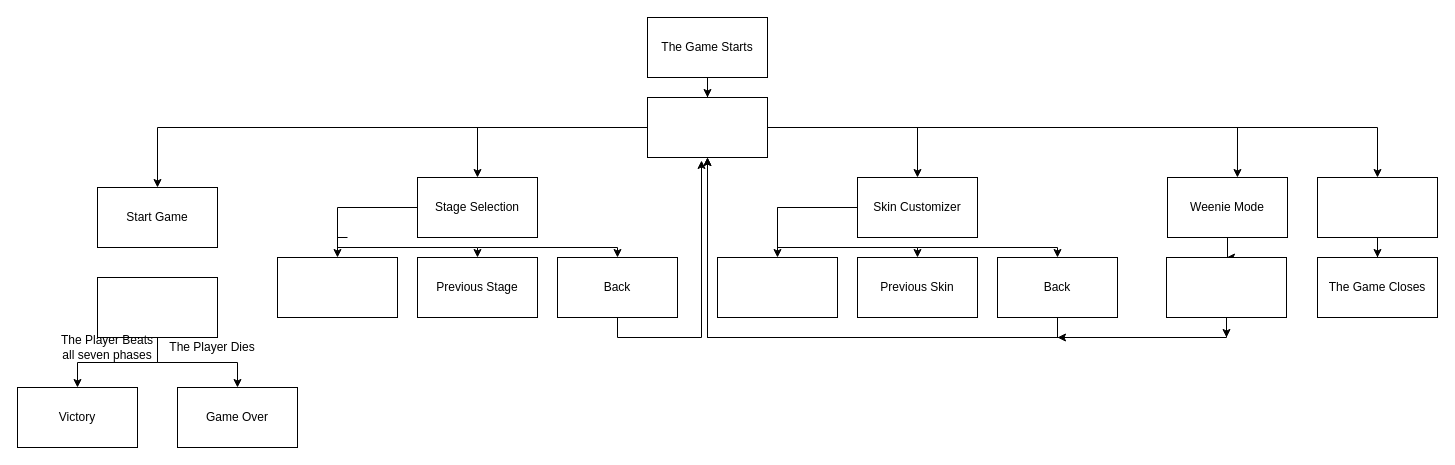
The diagram is 1455 pixels wide and 465 high, and some of its shapes have lost their labels. Here are the shapes that lost their labels. From the top down, the box of each, then its label:
(646, 96, 768, 158): The Main Menu Loads
(1316, 176, 1438, 238): Exit
(96, 276, 218, 338): The Game Runs
(276, 256, 398, 318): Next Stage
(716, 256, 838, 318): Next Skin
(1166, 256, 1286, 318): The player is now practically invincible.
